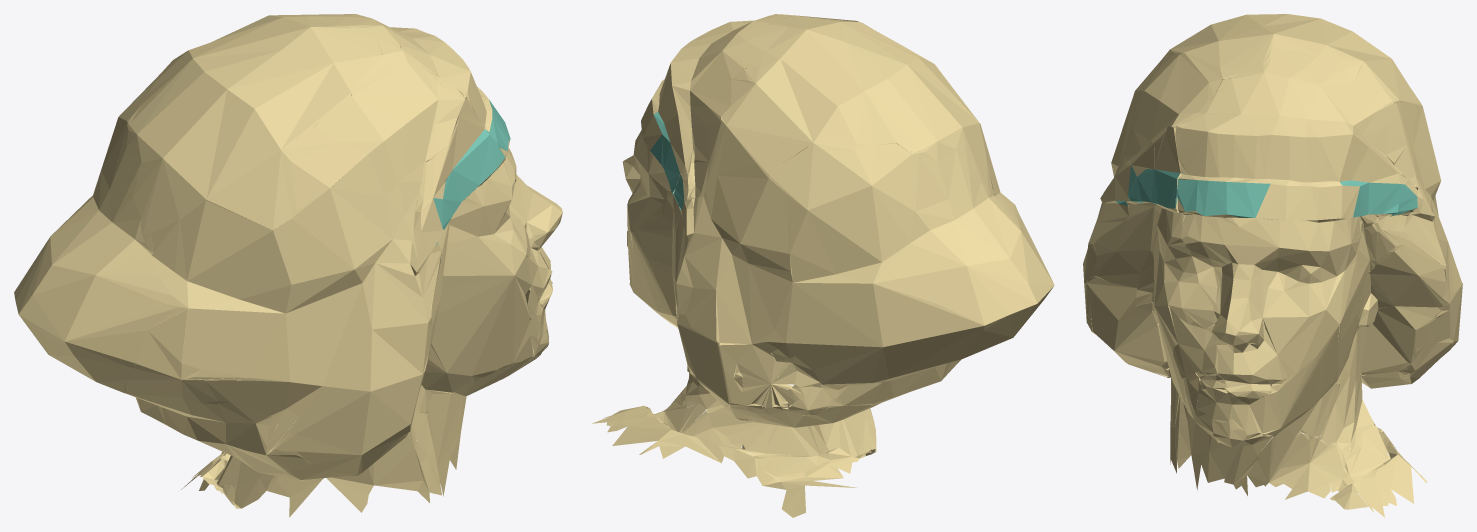
The model's file is visitor_head.glb.
3 views of the same model, side by side, from view 1: azimuth 30°, elevation 25°; view 2: azimuth 150°, elevation 25°; view 3: azimuth 270°, elevation 25° (orthographic). The views are drawn at different scales.
Parts seen in each view (by area): view 1: Mesh_0; view 2: Mesh_0; view 3: Mesh_0.
Boxes of the visible parts, x1,y1,x2,y2 form: Mesh_0: (14, 14, 562, 517); Mesh_0: (592, 14, 1054, 517); Mesh_0: (1083, 14, 1462, 517).
Bounding box in the file's own units: 0.3401 × 0.3192 × 0.2442.
